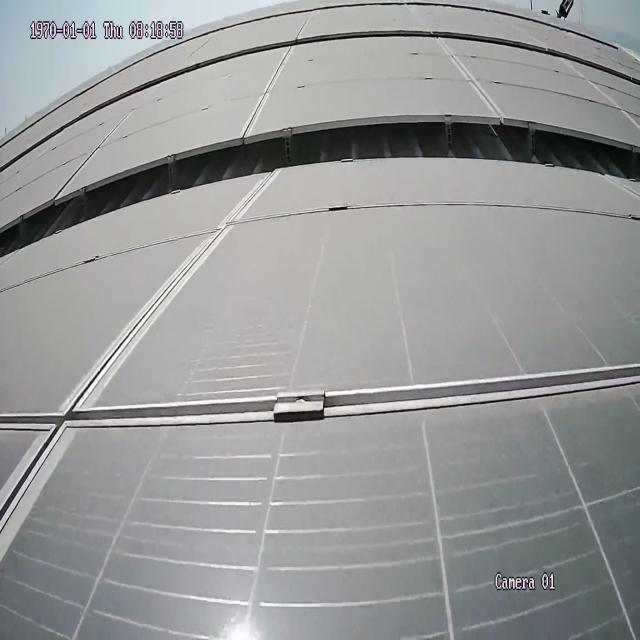interior panel: (3, 179, 637, 532), (243, 44, 294, 130), (442, 47, 506, 108)
outher panel: (3, 118, 640, 256)
